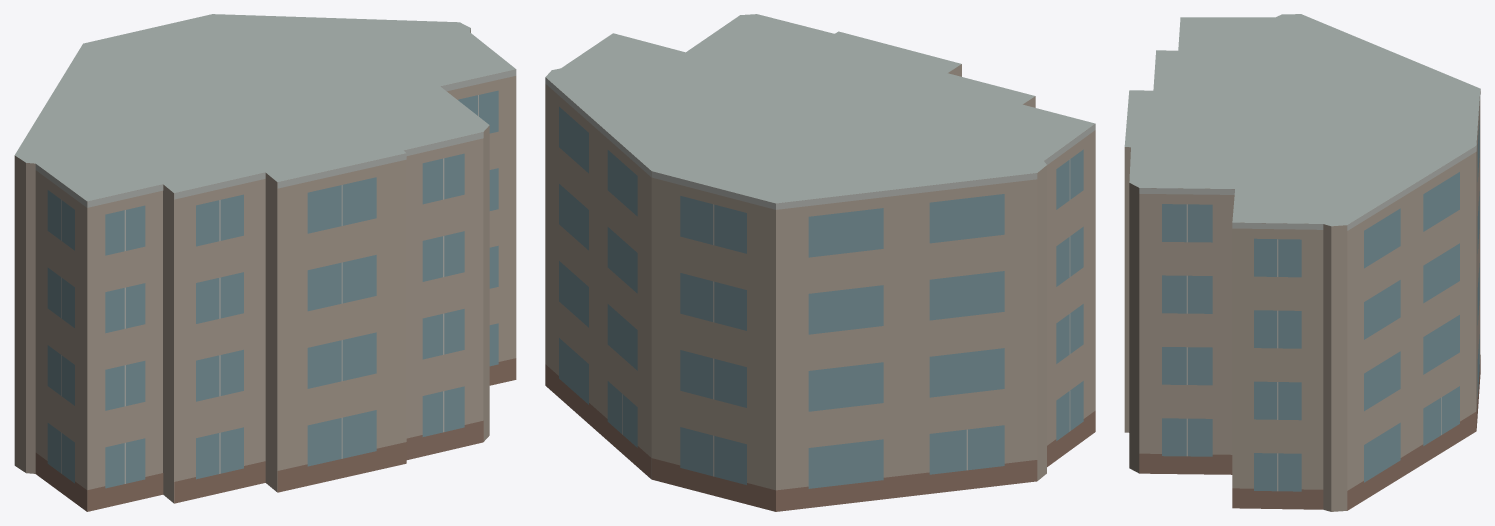
File: survey-upis-32660484.glb
3 views of the same model, side by side, from view 1: azimuth 30°, elevation 25°; view 2: azimuth 150°, elevation 25°; view 3: azimuth 270°, elevation 25° (orthographic). The views are drawn at different scales.
Visible parts, largest first — view 1: survey-upis-32660484.tmp; view 2: survey-upis-32660484.tmp; view 3: survey-upis-32660484.tmp.
Part boxes in pixels (box(x1,y1,x2,y2)): survey-upis-32660484.tmp: box(14, 14, 516, 511); survey-upis-32660484.tmp: box(545, 14, 1095, 511); survey-upis-32660484.tmp: box(1124, 14, 1480, 511).
Size of the model in its own units: 18.81 by 11.8 by 13.33.
